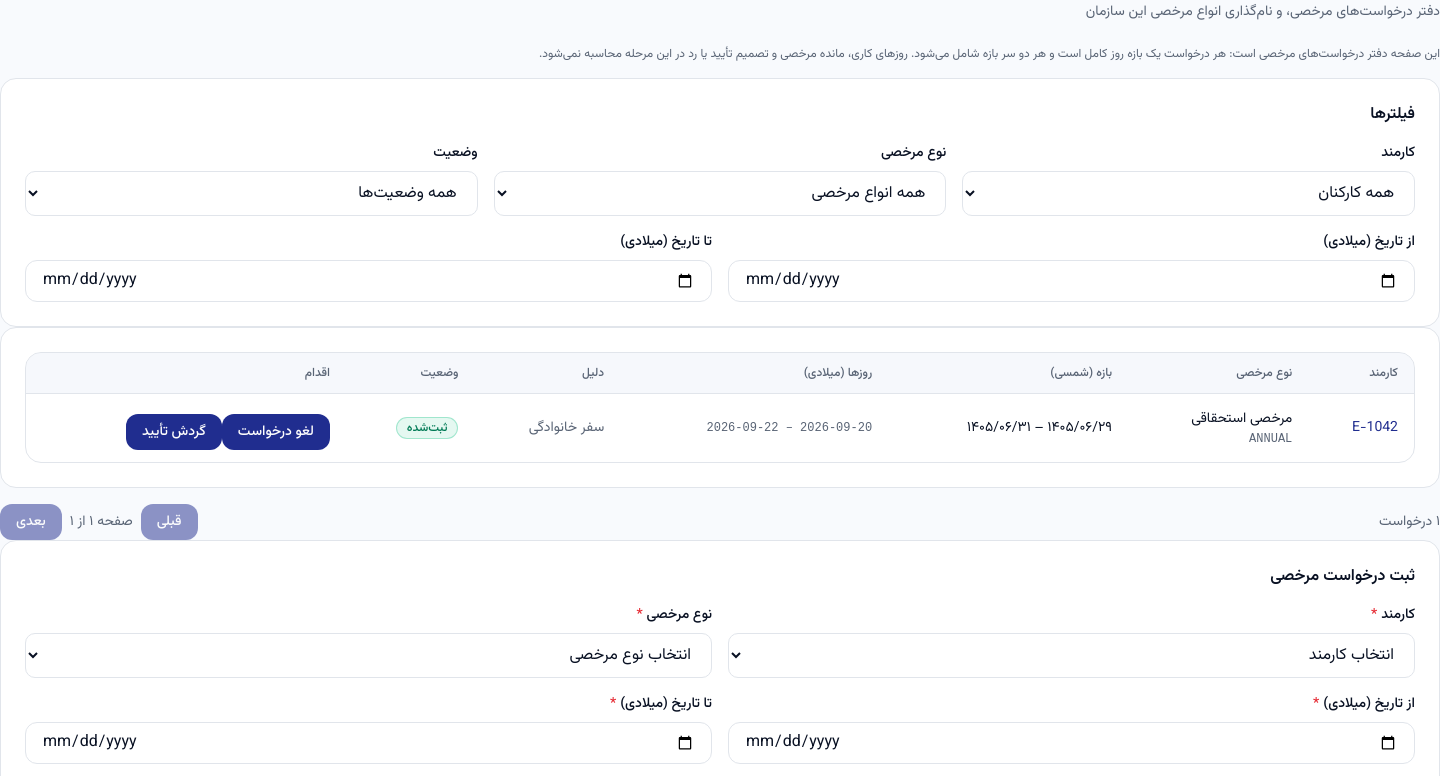
it: HrLeaveView › submits the API’s own wire shape, and only once every one of its five values exists
This screenshot has width=1440, height=776.
Expected: the table with test id "hr-leave-table" is shown, [26,353,1414,462]
Select "E-1042 — بهار نوری" in the dropdown with id "hr-leave-form-employee" at (1072, 656), box [728,633,1415,678]
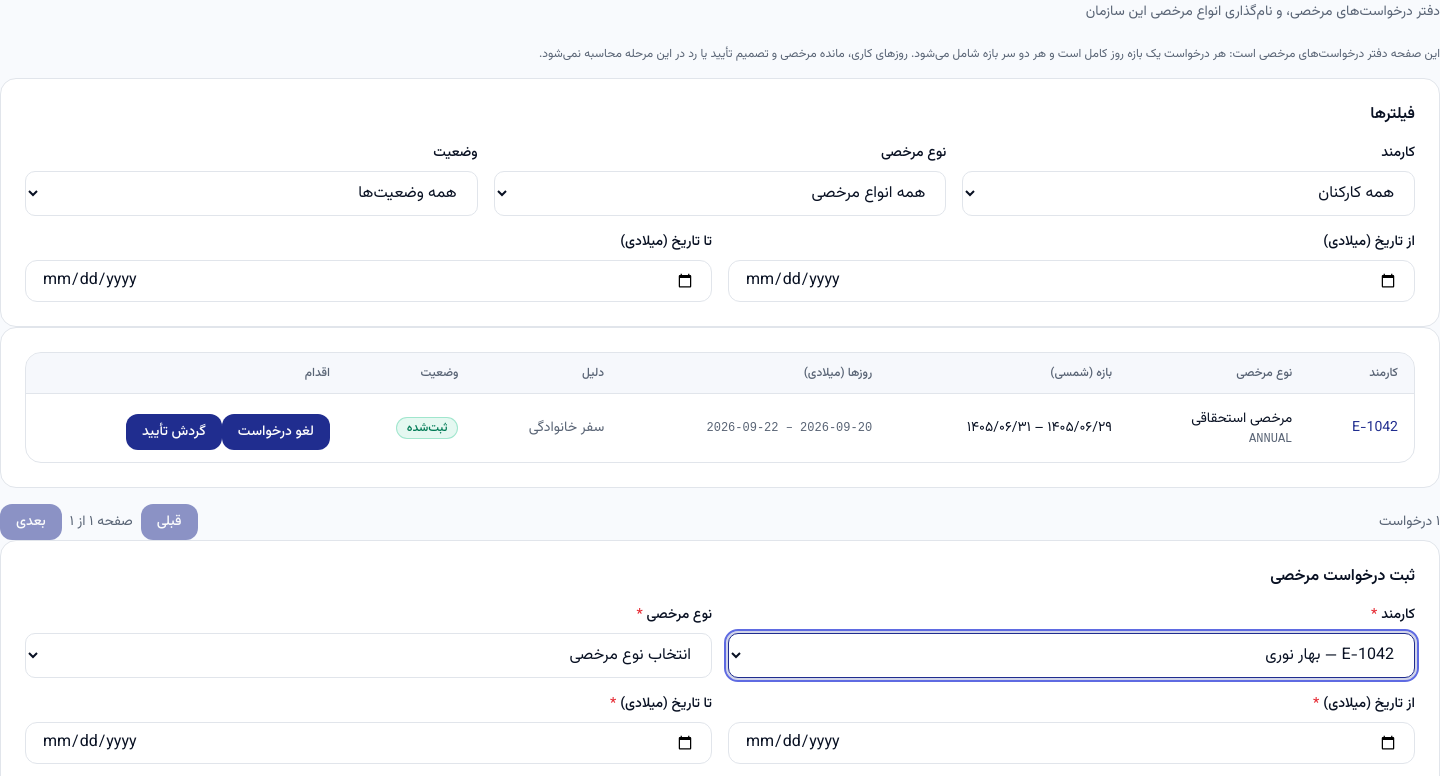
Select "مرخصی استحقاقی (ANNUAL)" in the dropdown with id "hr-leave-form-type" at (368, 656), box [25,633,712,678]
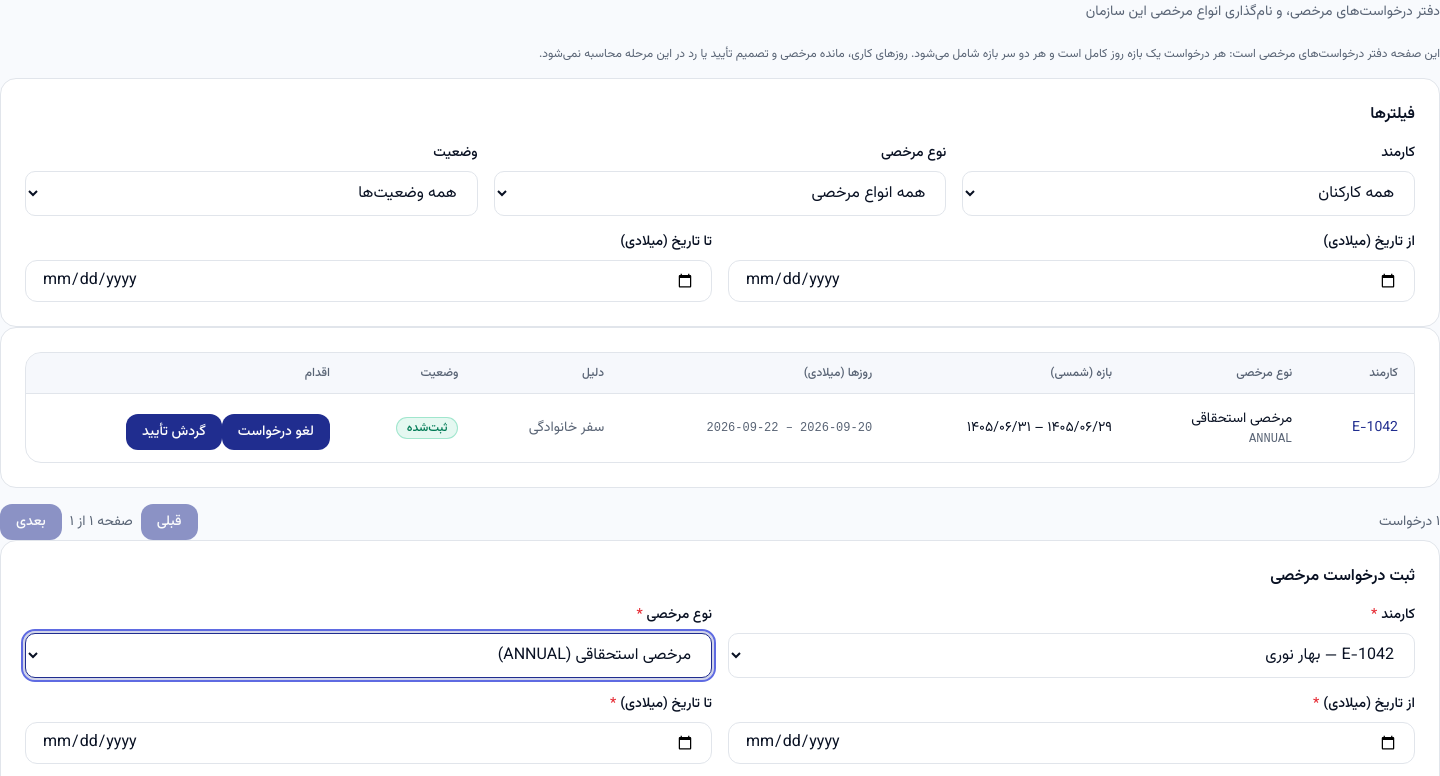
Type "2026-09-20" into the date field with id "hr-leave-form-start".
click(1072, 743); type("2026-09-20")  # box [728,722,1415,764]
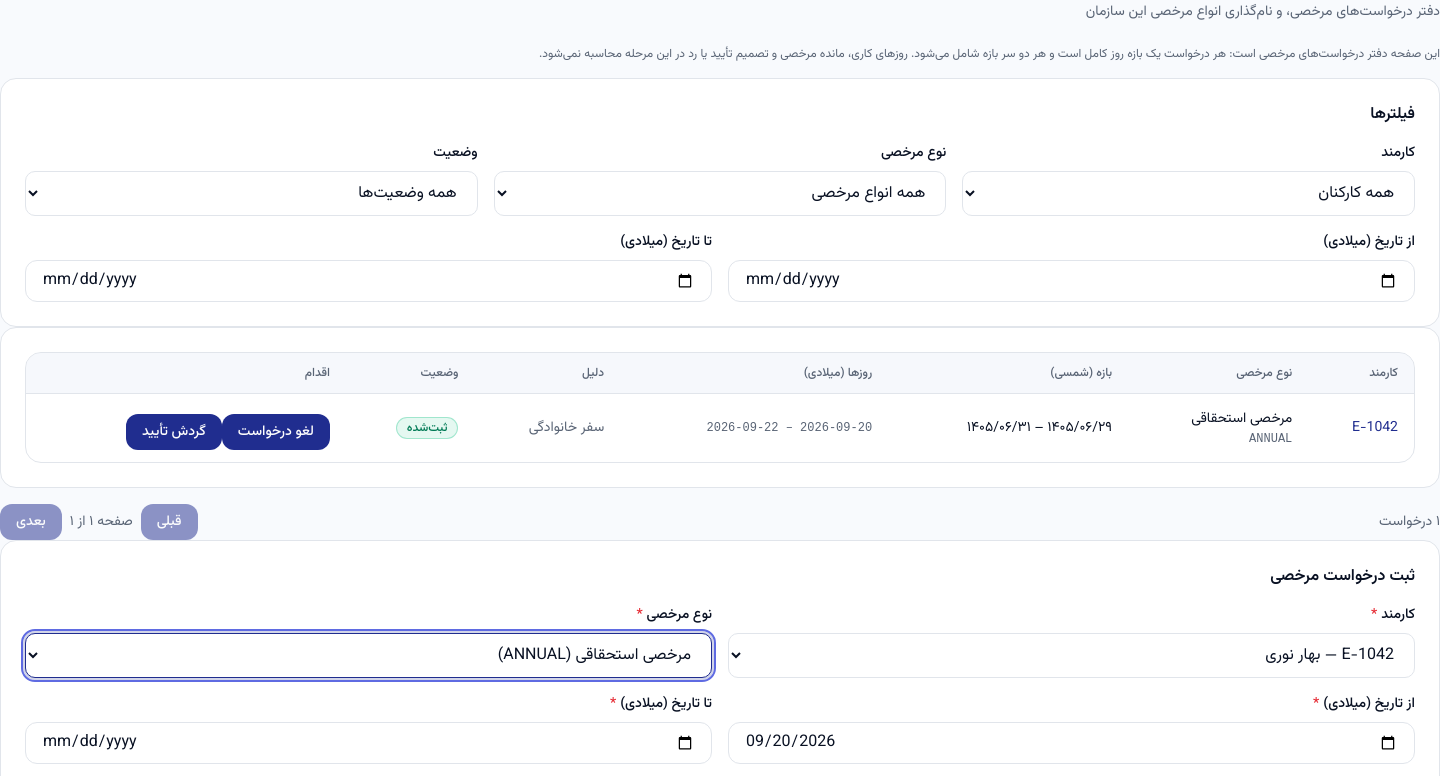
Type "2026-09-22" into the date field with id "hr-leave-form-end".
click(368, 743); type("2026-09-22")  # box [25,722,712,764]
(page scrolled)
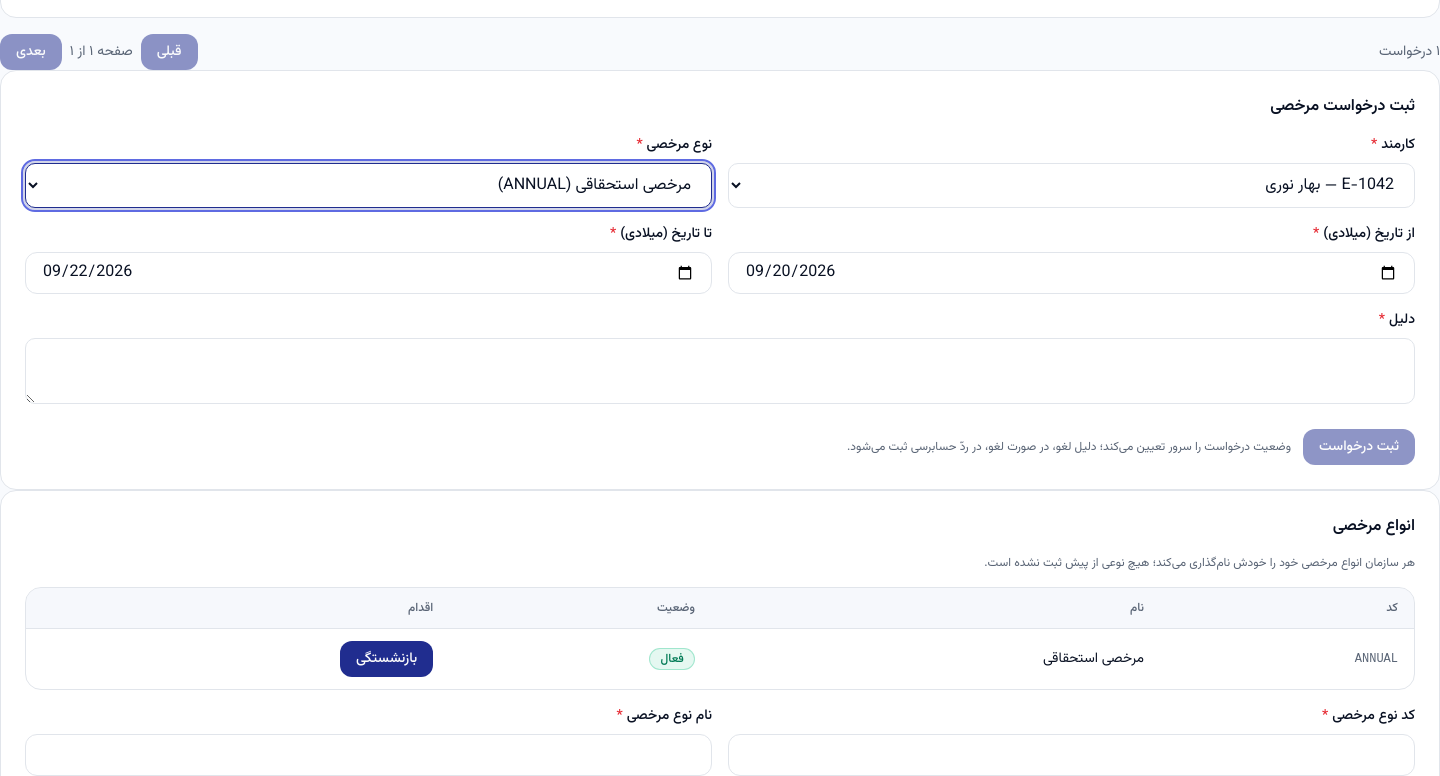
Expected: the button with test id "hr-leave-request-submit" is disabled, [1303,429,1415,465]
Type "سفر خانوادگی" into the text box with id "hr-leave-form-reason".
click(720, 371); type("سفر خانوادگی")  # box [25,338,1415,404]
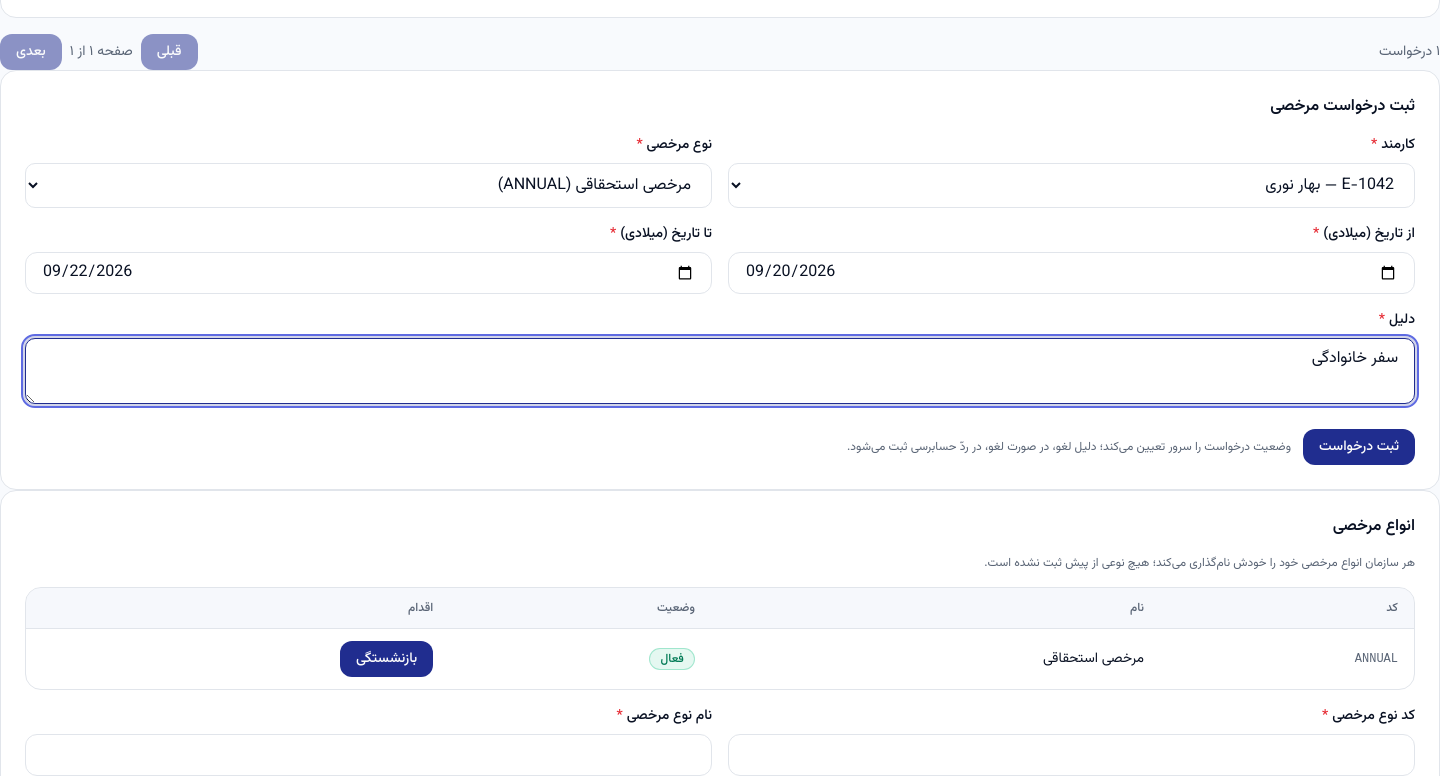
Now the button with test id "hr-leave-request-submit" is enabled
Click the button with test id "hr-leave-request-submit".
click(1359, 447)  # box [1303,429,1415,465]
(page scrolled)
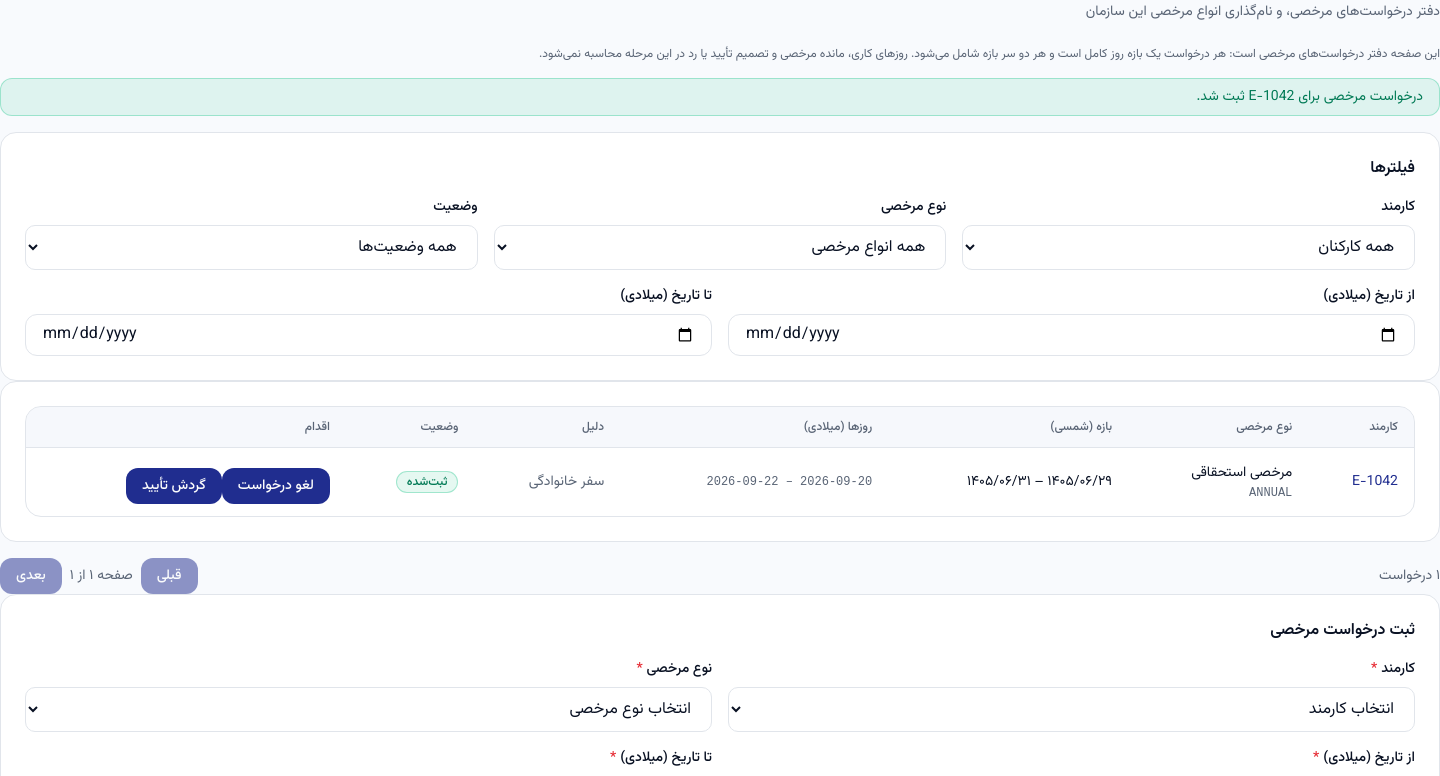
Now the text "درخواست مرخصی برای E-1042 ثبت شد." is shown, box [0,78,1439,116]
